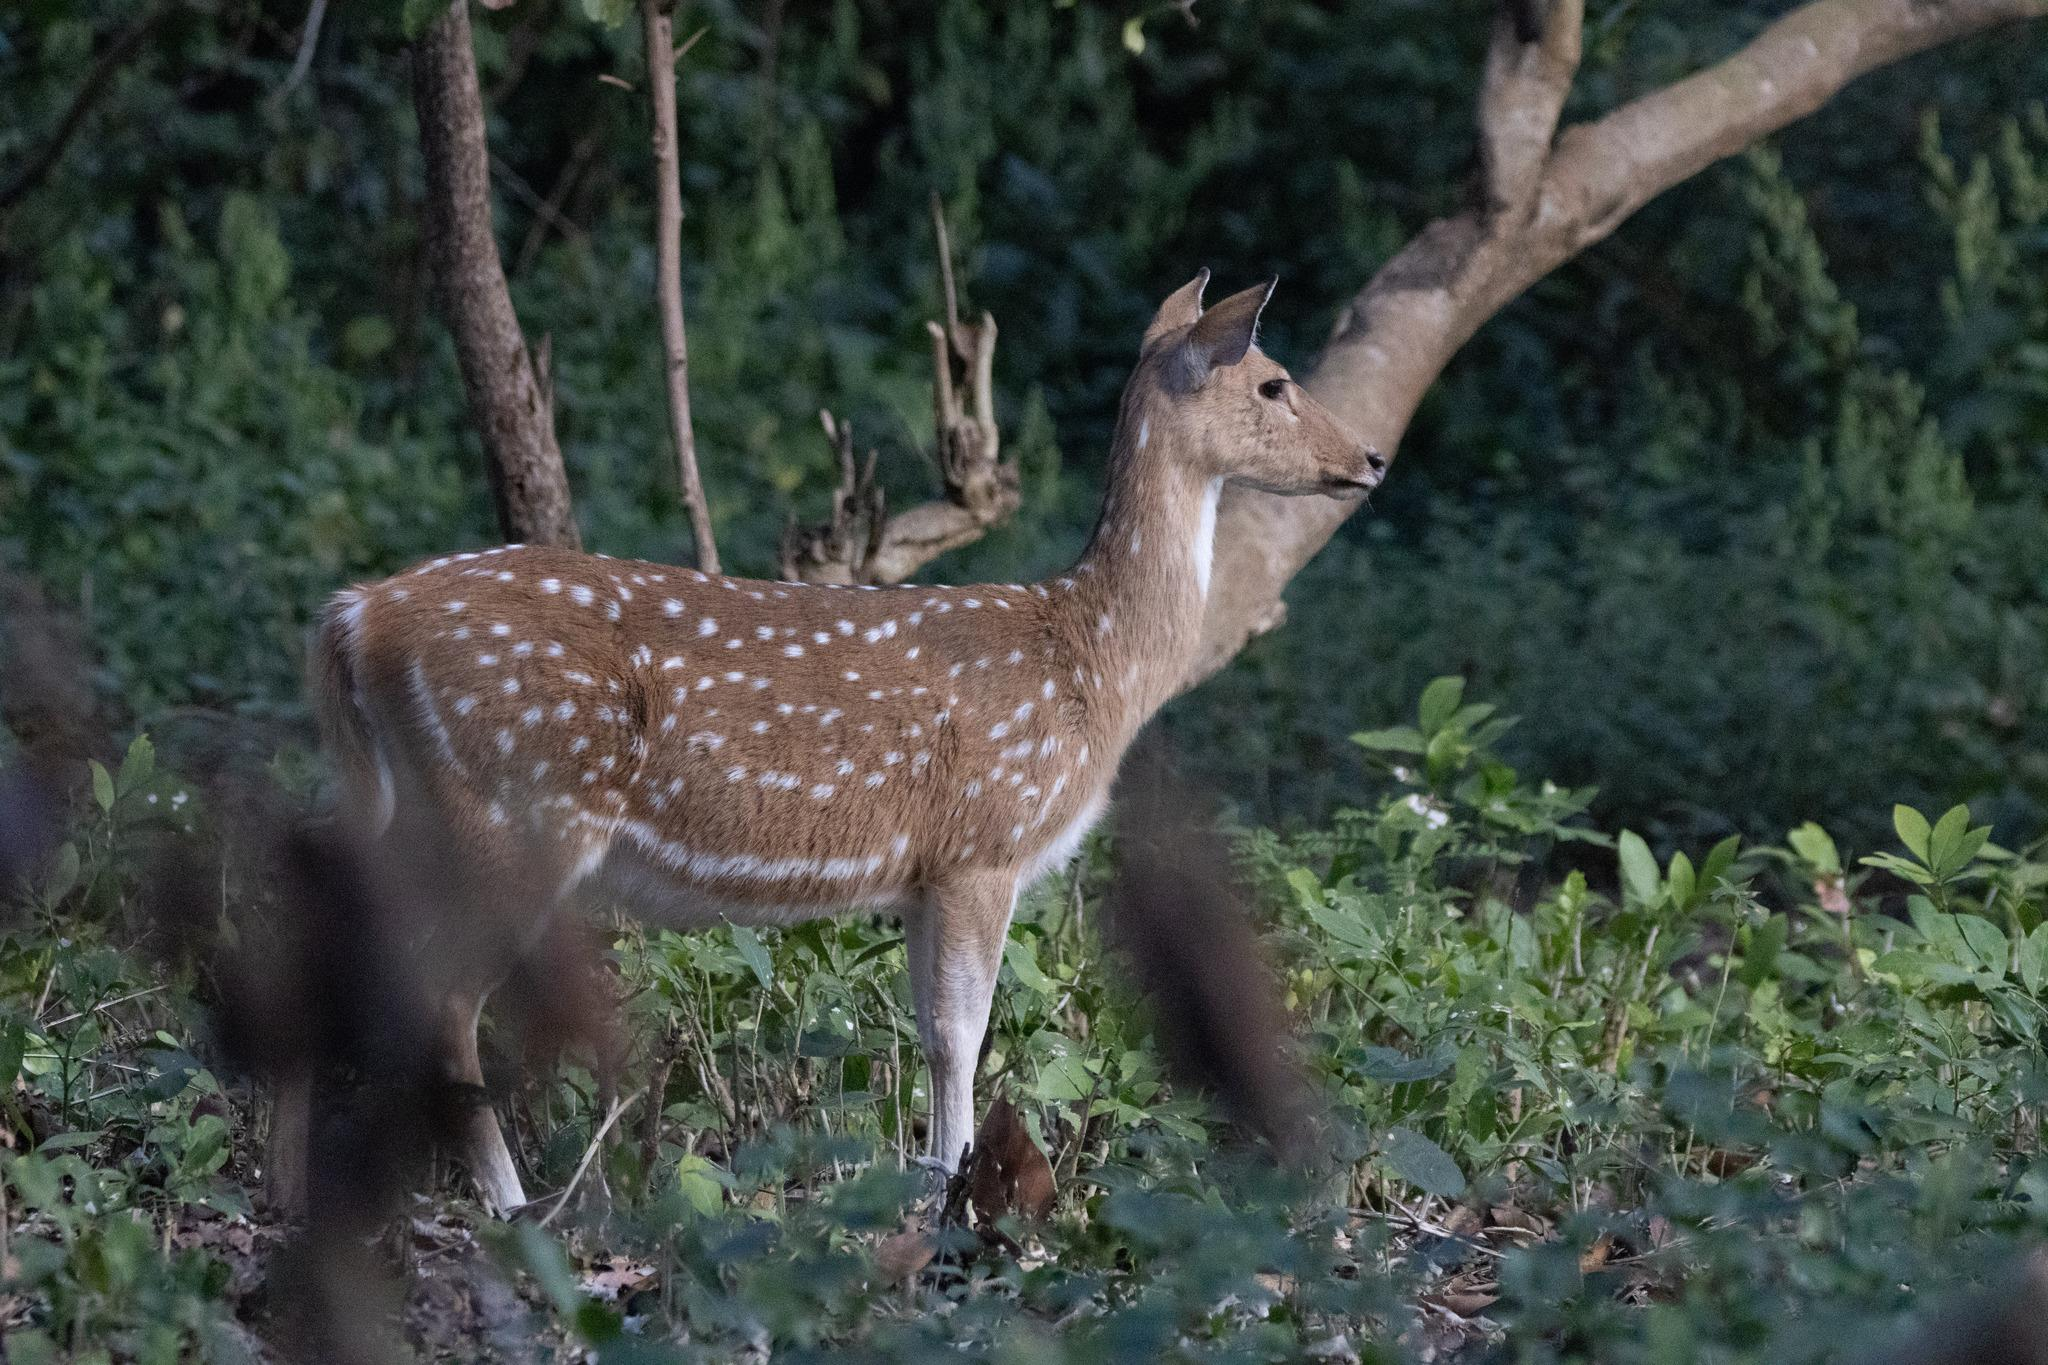Deer: (308, 277, 1381, 1208)
